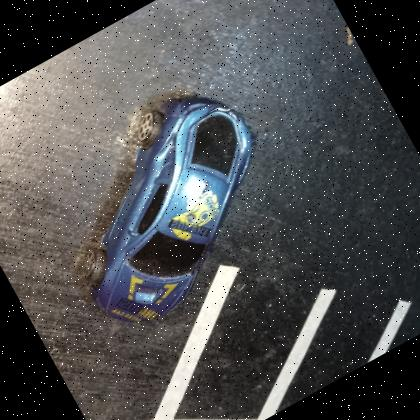Car: (93, 94, 255, 323)
